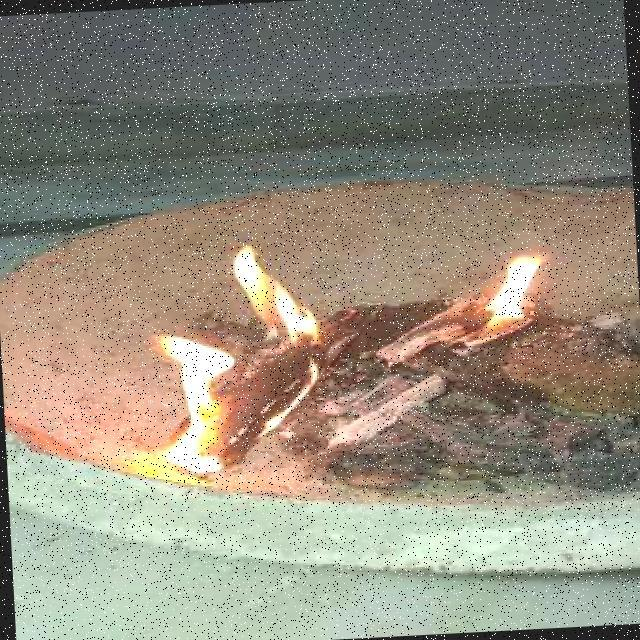Fire: (145, 244, 332, 477), (475, 246, 563, 334)
